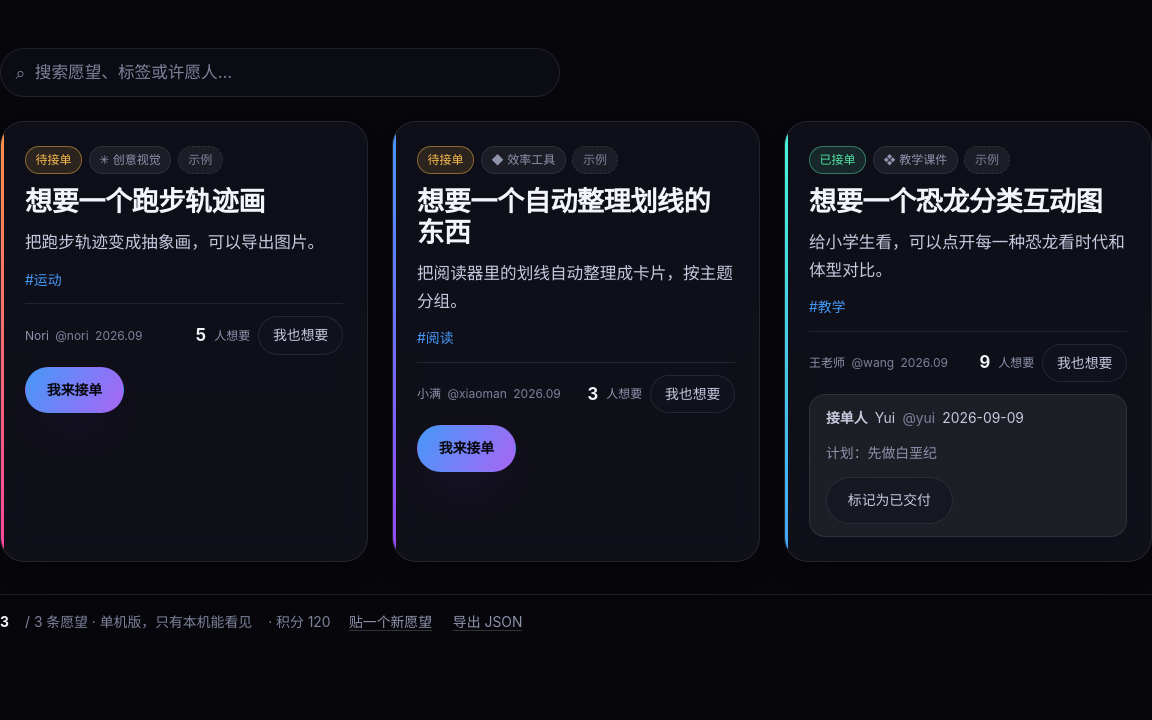
WishesPage › 设置本机身份后，发愿表单自动带上署名
Click the button "贴一个新愿望". click: click(390, 622)
box: [346,610,434,634]
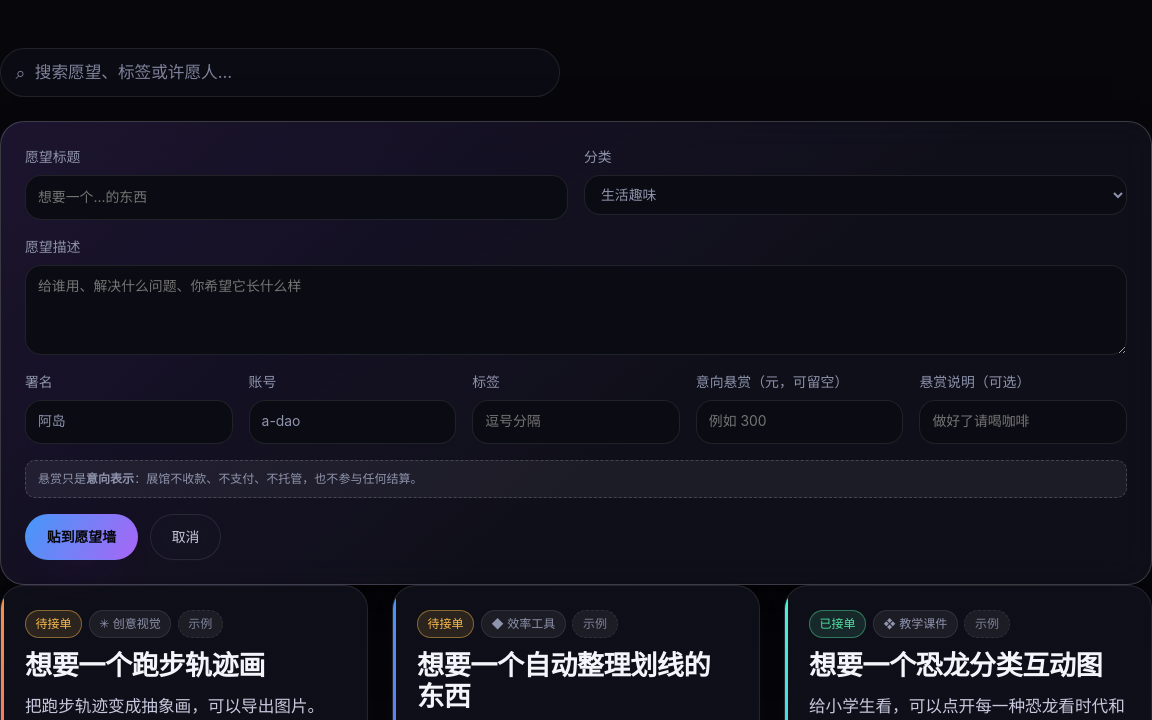
Expected: the field labelled "署名" holds "阿岛", [25,400,233,444]
Expected: the field labelled "账号" holds "a-dao", [249,400,456,444]
